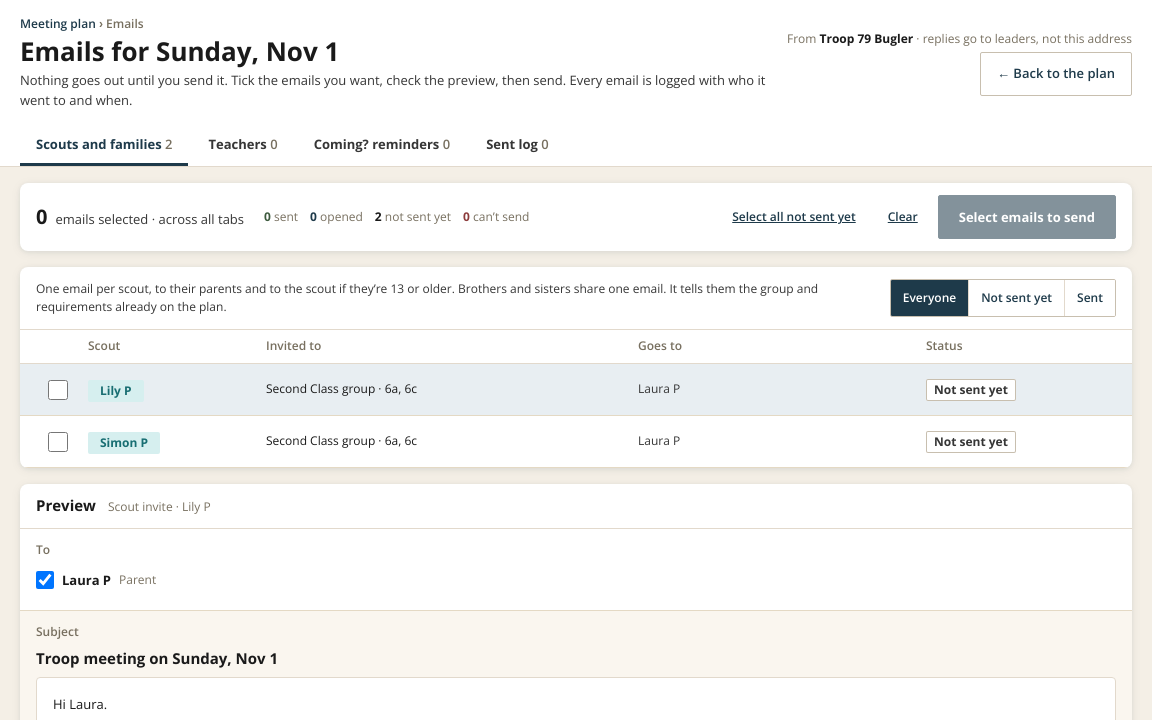
Emails screen › Selection_CountsEmailsNotRows
Click the button "Select all not sent yet".
click(794, 217)  # box [720,197,868,237]
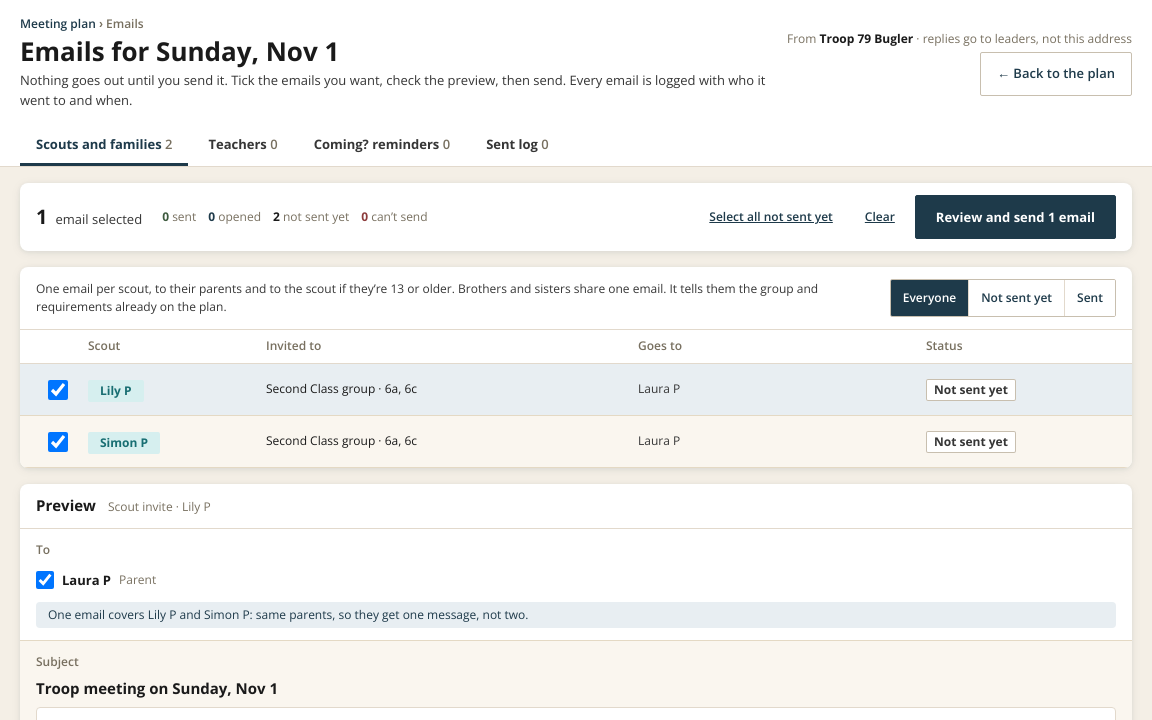
Expected: the button "Review and send 1 email" is shown, [915,195,1116,239]
